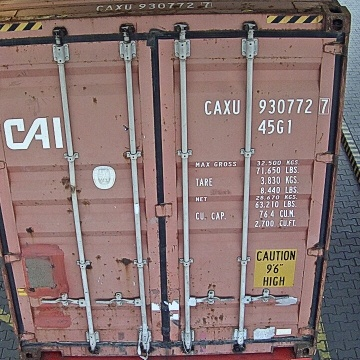serial_id: (205, 98, 329, 114)
